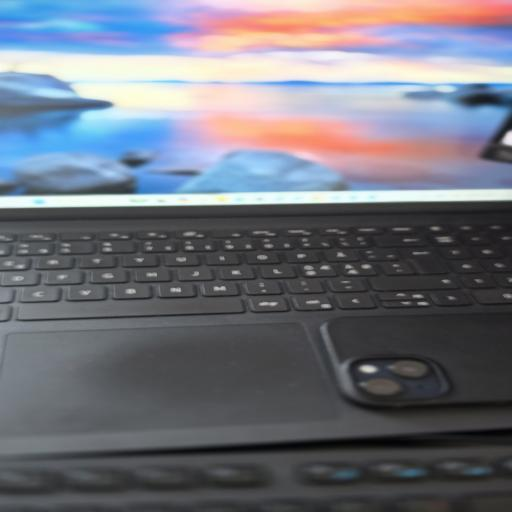phone: (338, 318, 512, 408)
